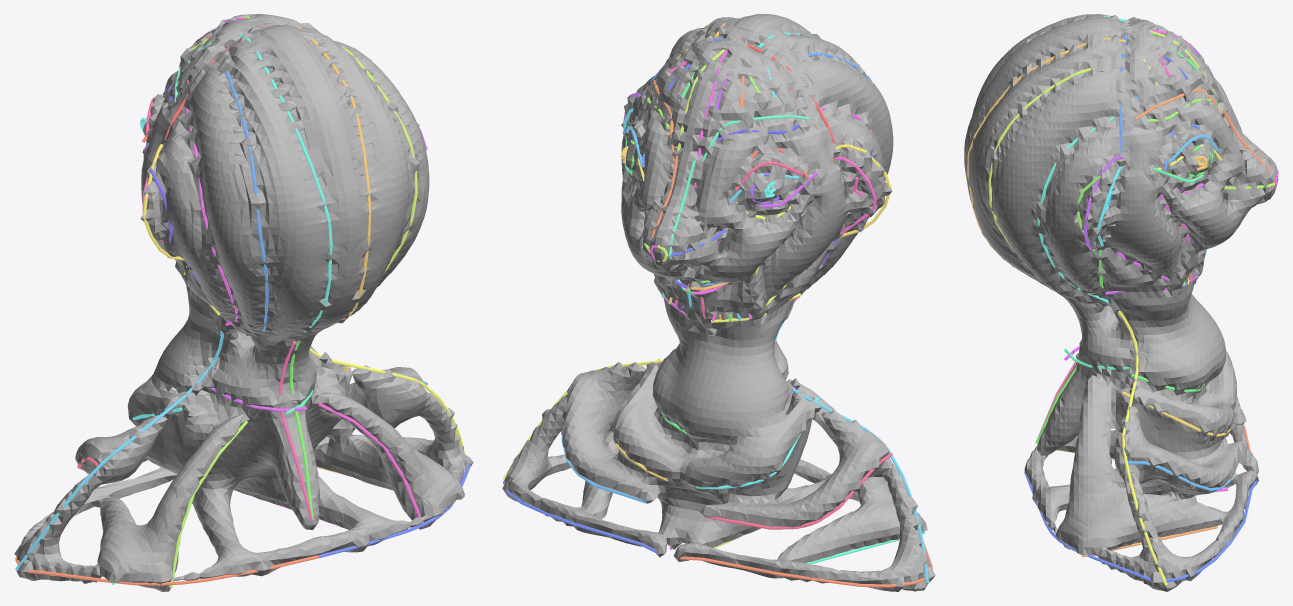
Rendered from author1_bust.gltf.
The picture shows the model from 3 angles, left to right: view 1: azimuth 30°, elevation 25°; view 2: azimuth 150°, elevation 25°; view 3: azimuth 270°, elevation 25°; orthographic projection. The views are drawn at different scales.
Size of the model in its own units: 0.6248 by 0.6929 by 0.4161.
